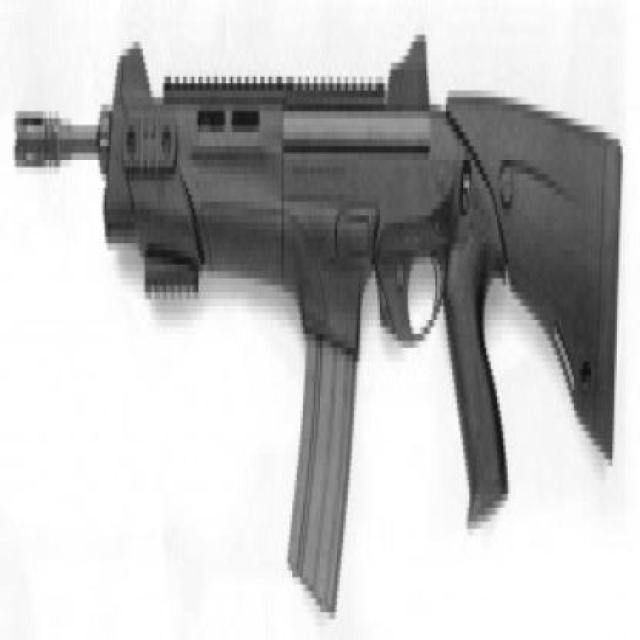weapon: (12, 35, 626, 622)
